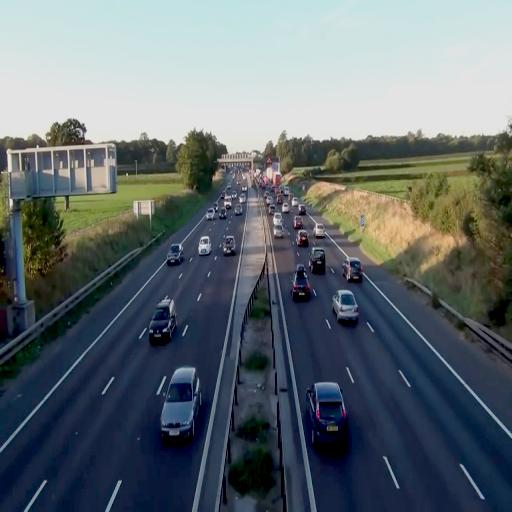vehicle: (160, 366, 201, 444), (308, 381, 348, 448), (148, 297, 177, 344), (332, 288, 358, 322), (291, 266, 312, 301), (344, 258, 363, 284), (309, 248, 326, 273), (166, 243, 183, 266), (222, 234, 236, 256), (272, 214, 285, 237), (198, 235, 211, 256), (206, 209, 214, 221)
